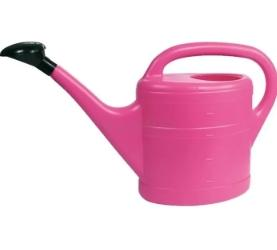ARROSOIR: (0, 0, 277, 210)
